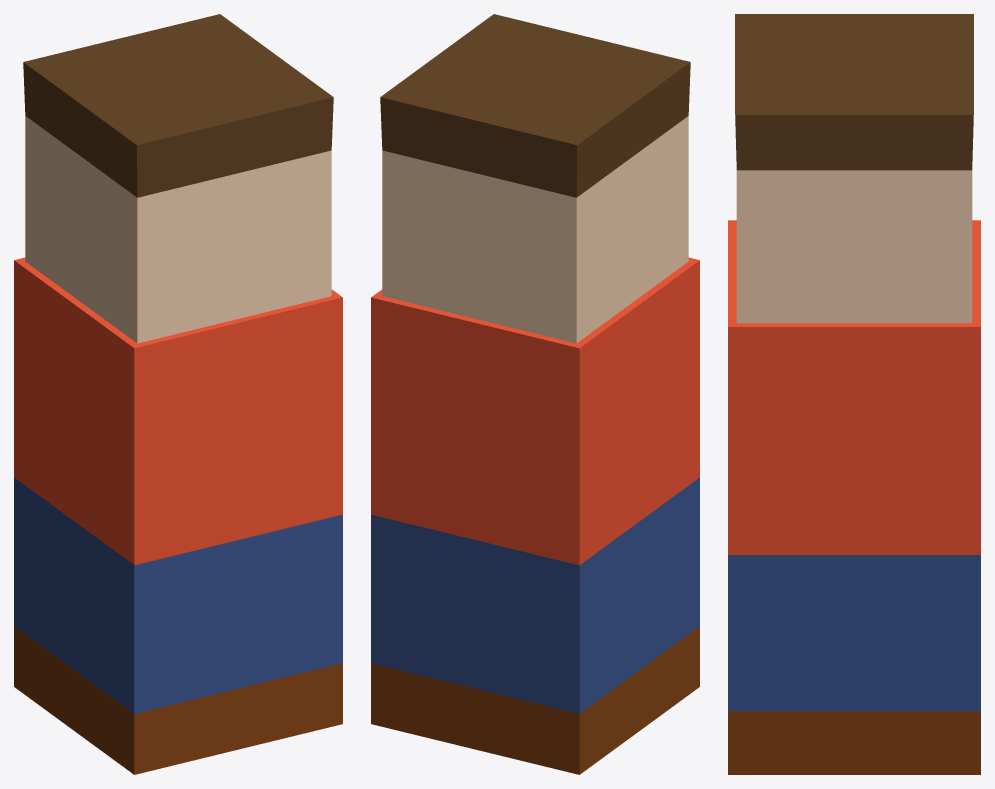
The model's file is HumanV1.3.fbx.
3 views of the same model, side by side, from view 1: azimuth 30°, elevation 25°; view 2: azimuth 150°, elevation 25°; view 3: azimuth 270°, elevation 25° (orthographic). The views are drawn at different scales.
Visible parts, largest first — view 1: Cube; view 2: Cube; view 3: Cube.
Boxes of the visible parts, x1=… form: Cube: x1=14, y1=14, x2=342, y2=774; Cube: x1=371, y1=14, x2=699, y2=774; Cube: x1=728, y1=14, x2=980, y2=774.
Size of the model in its own units: 0.7149 by 2.05 by 0.7149.
